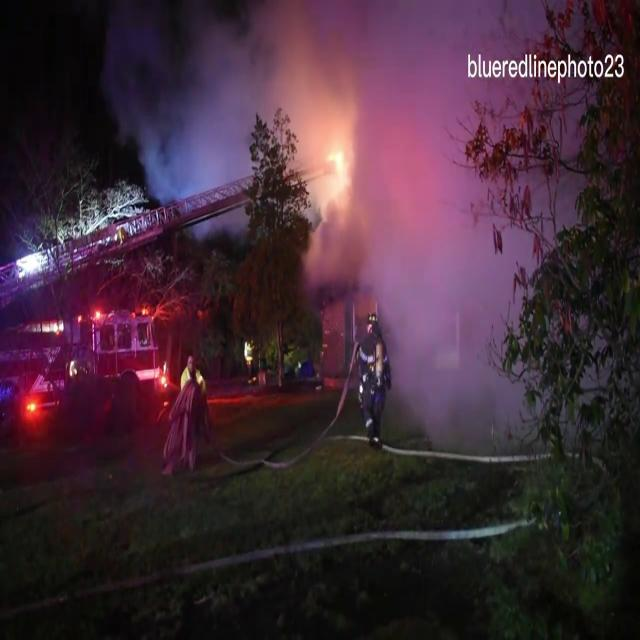Smoke: (247, 0, 589, 453)
